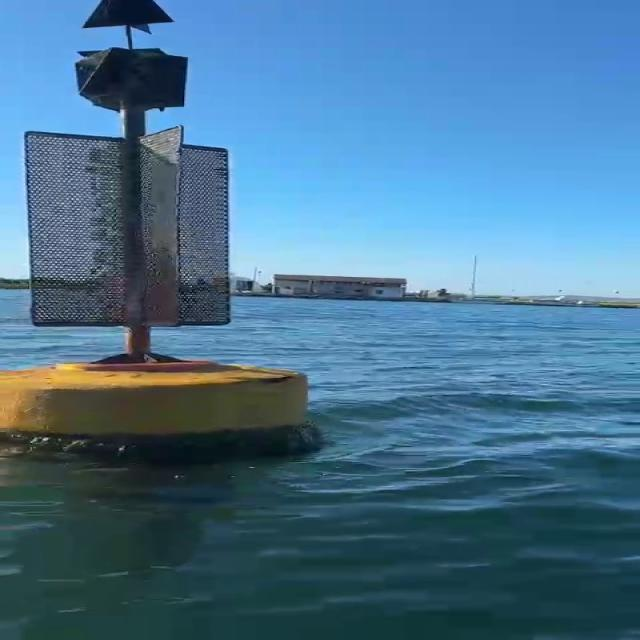marque: (1, 1, 313, 467)
